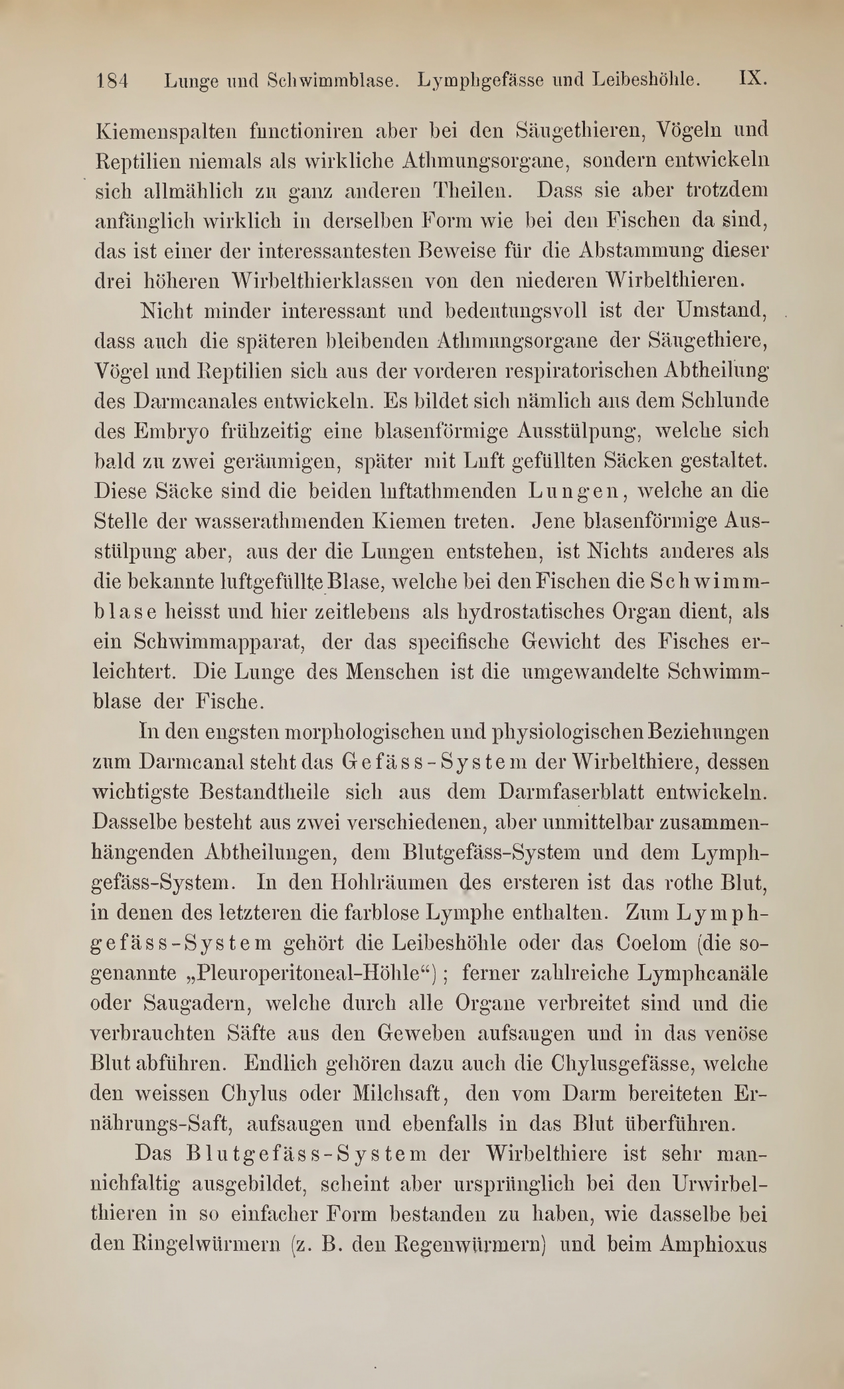MainZone: (63, 106, 795, 1280)
NumberingZone chapter: (730, 60, 778, 102)
NumberingZone_page: (86, 56, 139, 109)
RunningTitleZone: (156, 56, 719, 105)
